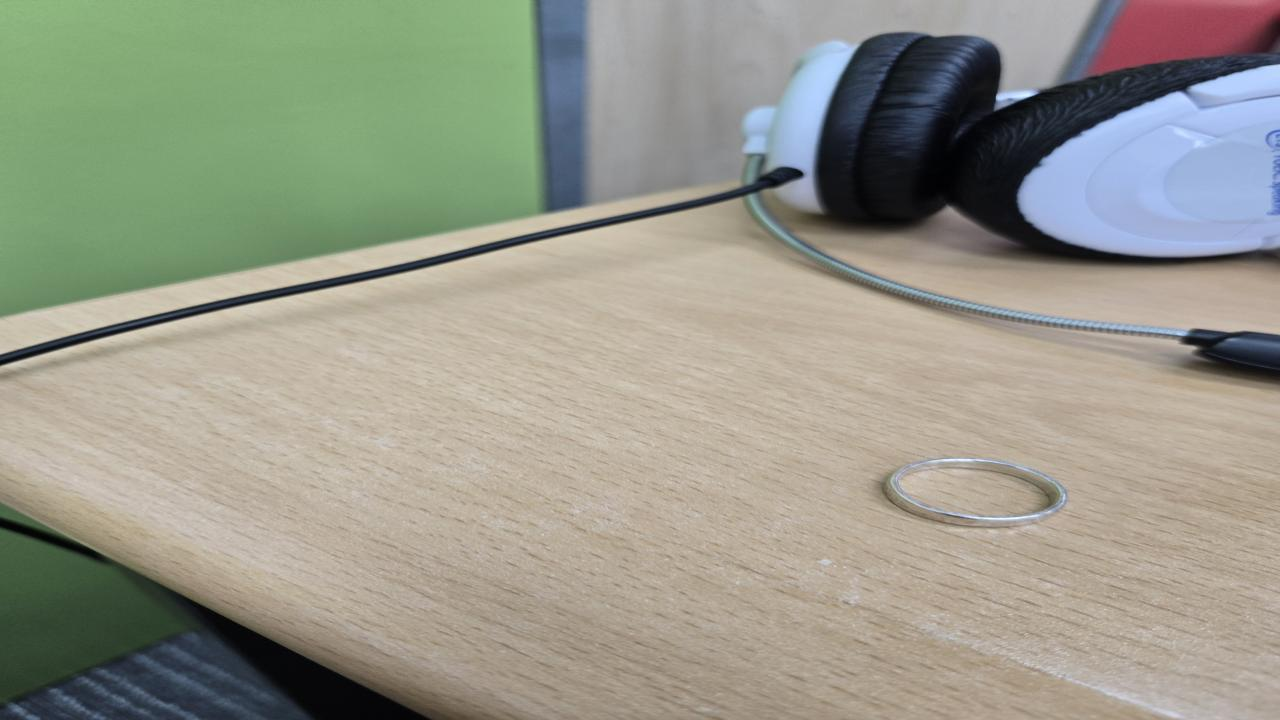ring: (883, 457, 1070, 529)
